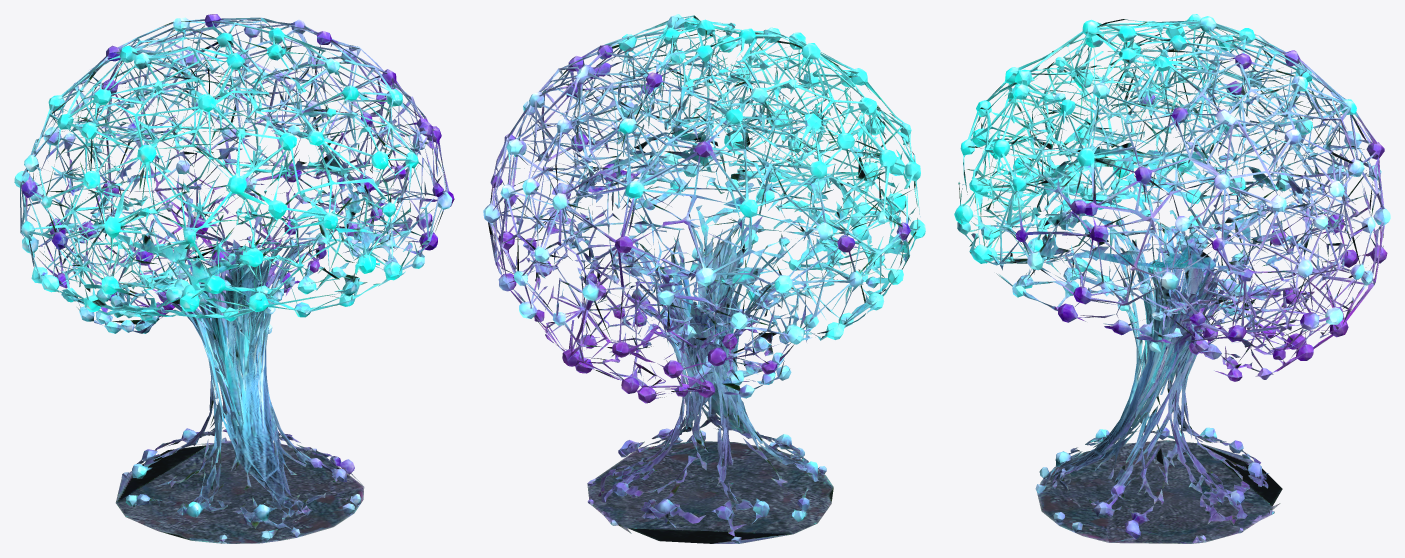
File: neural-net.glb
3 views of the same model, side by side, from view 1: azimuth 30°, elevation 25°; view 2: azimuth 150°, elevation 25°; view 3: azimuth 270°, elevation 25° (orthographic).
Size of the model in its own units: 1.67 by 1.9 by 1.64.
1 material, 1 textured.
